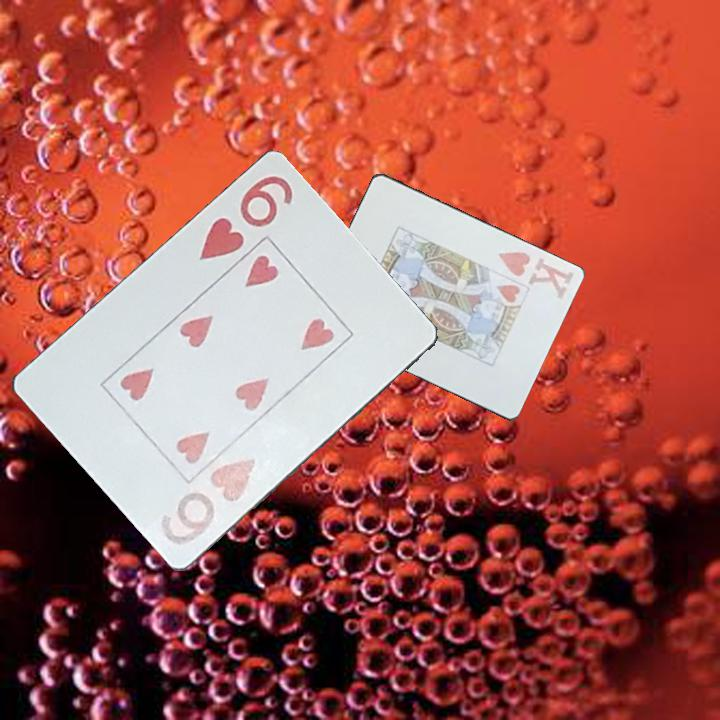6h: (155, 454, 264, 554), (195, 172, 296, 264)
Kh: (494, 246, 576, 302)
